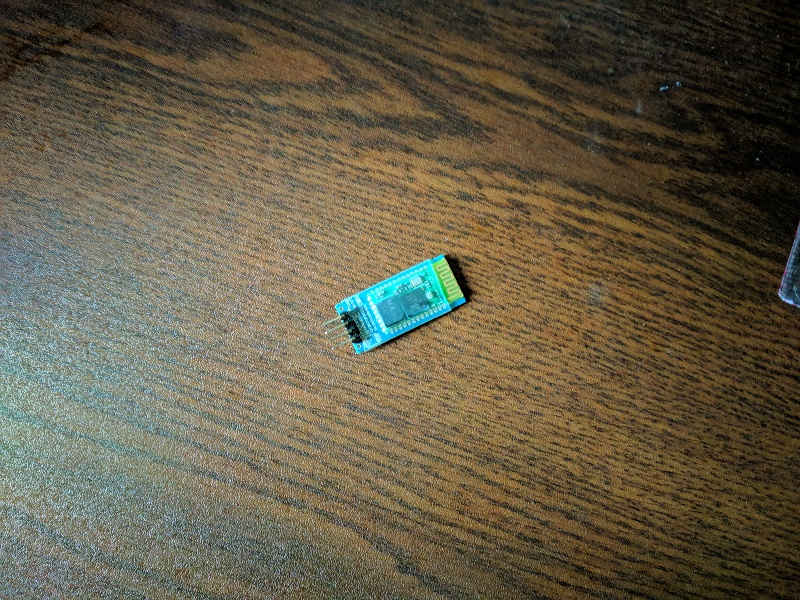HC-05: (329, 250, 474, 359)
